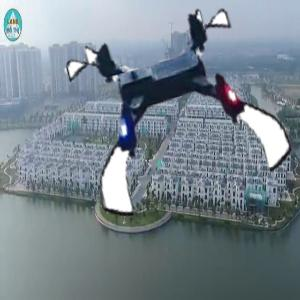drone: (78, 11, 283, 216)
